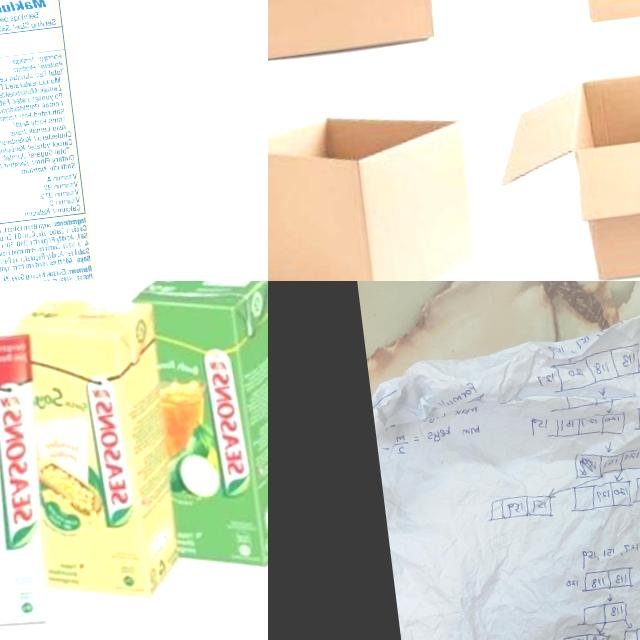caixinha: (12, 288, 186, 610), (131, 281, 268, 579), (0, 0, 120, 281), (0, 324, 66, 633)
garrafa plástica: (268, 95, 487, 281), (491, 37, 640, 281), (268, 0, 482, 66)
papel: (364, 302, 640, 640)
